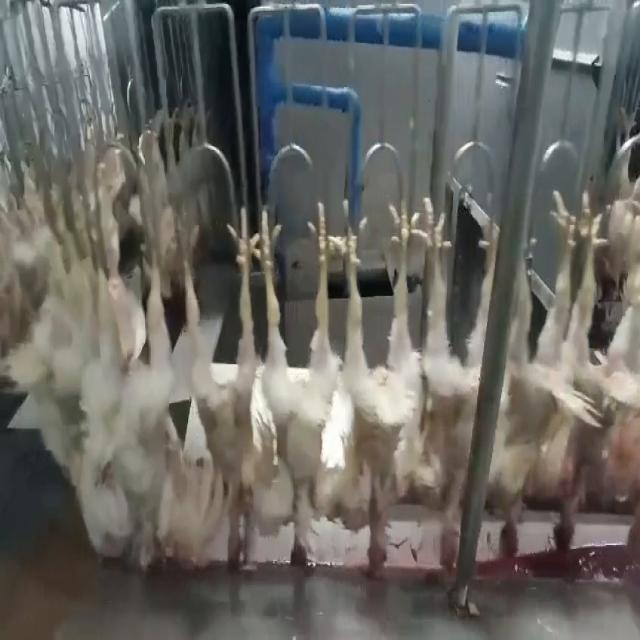chicken: (414, 191, 498, 570), (340, 196, 418, 582), (256, 200, 335, 578), (530, 186, 603, 555), (185, 200, 252, 569), (119, 207, 180, 577), (593, 191, 640, 559), (68, 219, 115, 563), (490, 219, 534, 562)
